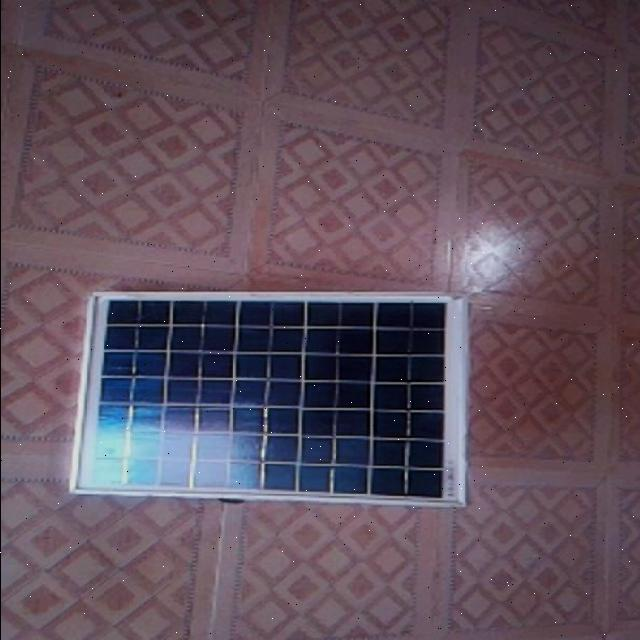Normal Solar Panel: (70, 293, 468, 508)
